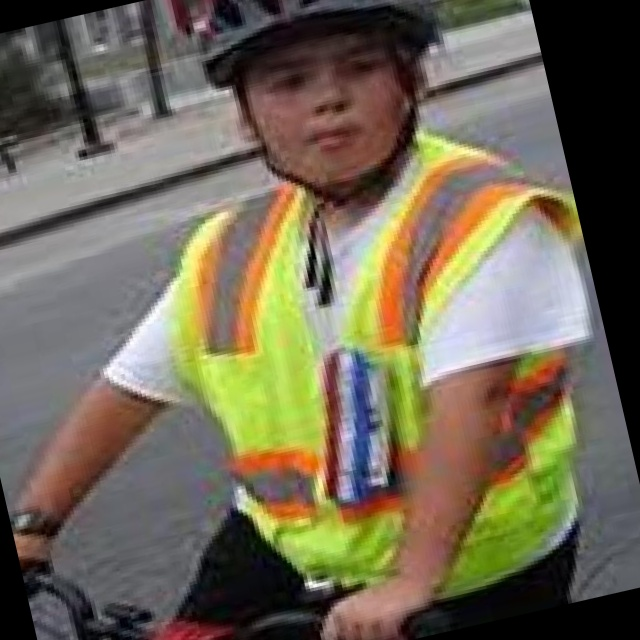Con_Chaleco: (169, 128, 598, 628)
